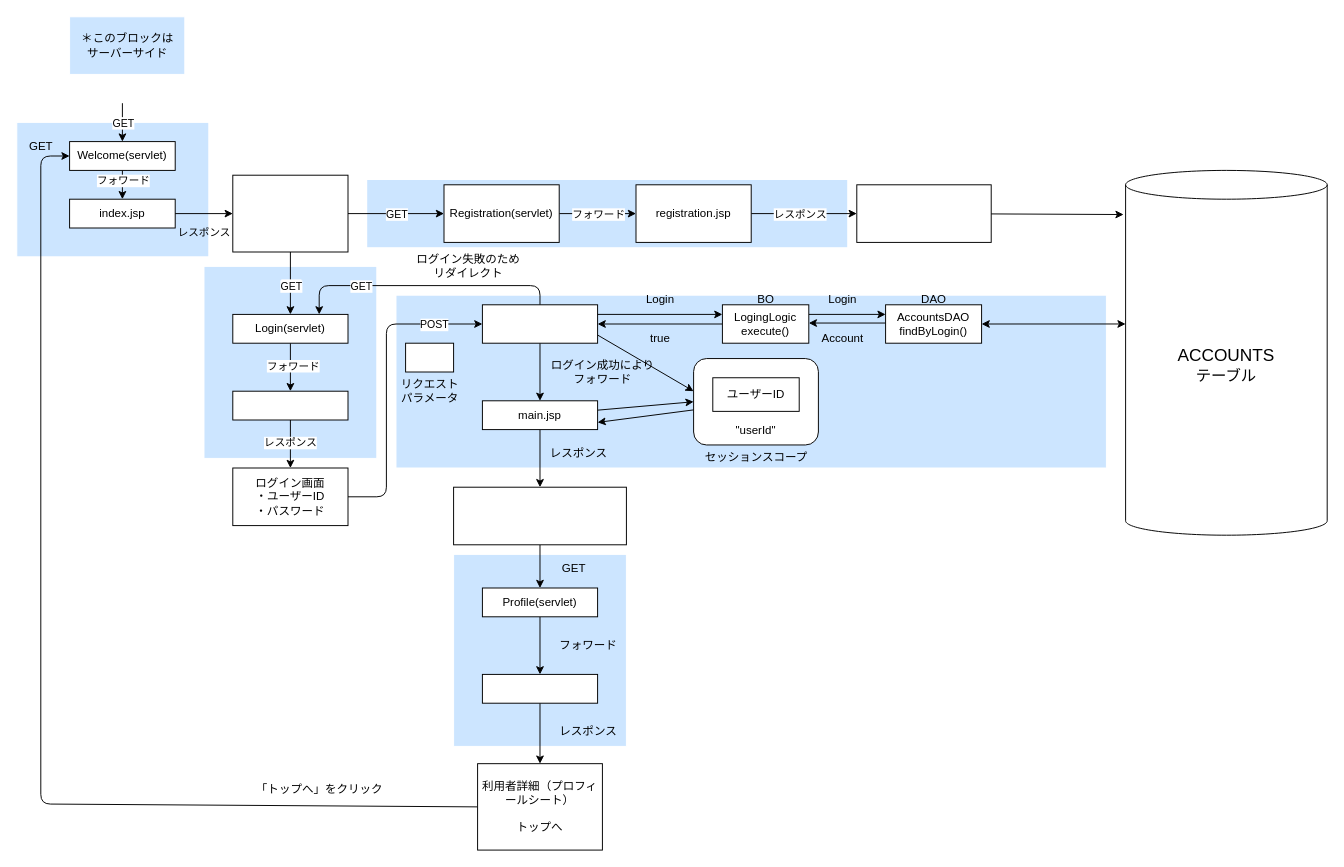
The diagram is 1344 pixels wide and 867 high, and some of its shapes have lost their labels. Each missing label, with the box of its shape:
Login(servlet) doPost(): (481, 304, 598, 343)
login.jsp: (232, 390, 348, 420)
profile.jsp: (481, 673, 598, 703)
userId pass: (405, 342, 454, 372)
ダッシュボード （一覧） ようこそ （ユーザーID）さん: (453, 486, 626, 545)
トップ画面 ・ログイン ・ユーザー登録: (232, 174, 348, 252)
利用者登録: (856, 184, 991, 242)
